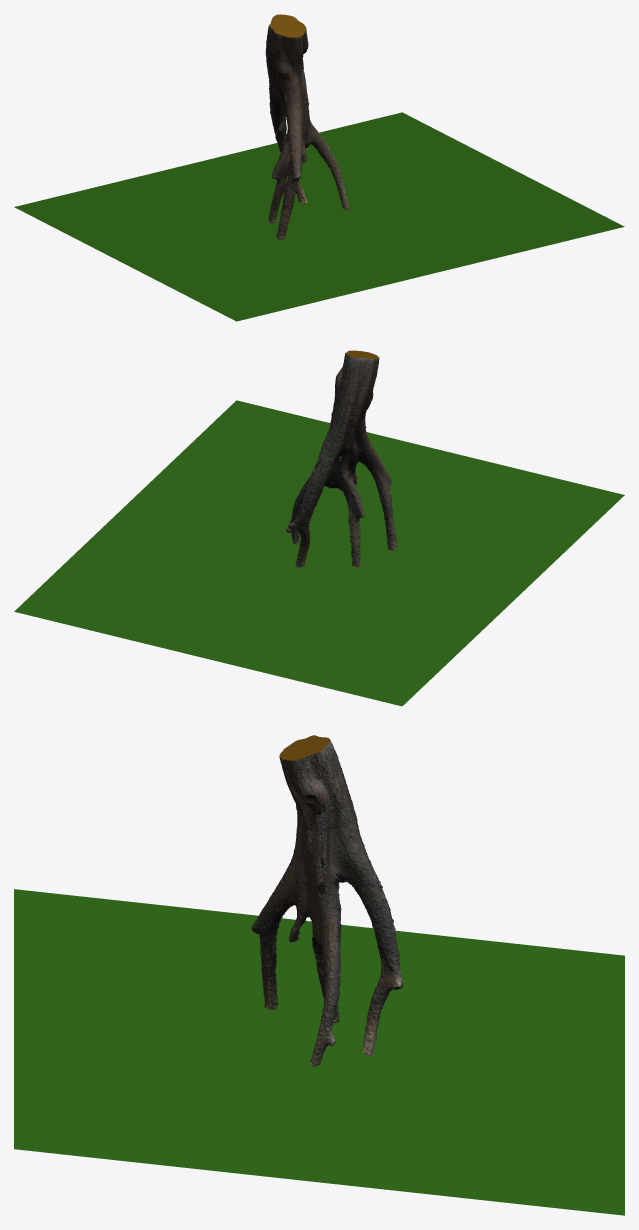
The model's file is objetoMiedo1.glb.
3 renders of one model, top to bottom at view 1: azimuth 30°, elevation 25°; view 2: azimuth 150°, elevation 25°; view 3: azimuth 270°, elevation 25°, orthographic. The views are drawn at different scales.
Parts seen in each view (by area): view 1: Plane_1, ARBOL_01_Lp_01_0; view 2: Plane_1, ARBOL_01_Lp_01_0; view 3: Plane_1, ARBOL_01_Lp_01_0.
Part boxes in pixels (x1,y1,x2,y2): Plane_1: (14, 112, 624, 321); ARBOL_01_Lp_01_0: (265, 14, 349, 239); Plane_1: (14, 400, 624, 706); ARBOL_01_Lp_01_0: (286, 350, 397, 568); Plane_1: (14, 889, 624, 1215); ARBOL_01_Lp_01_0: (251, 735, 402, 1067).
Size of the model in its own units: 4.88 by 2.8 by 4.84.
4 materials, 2 textured.
